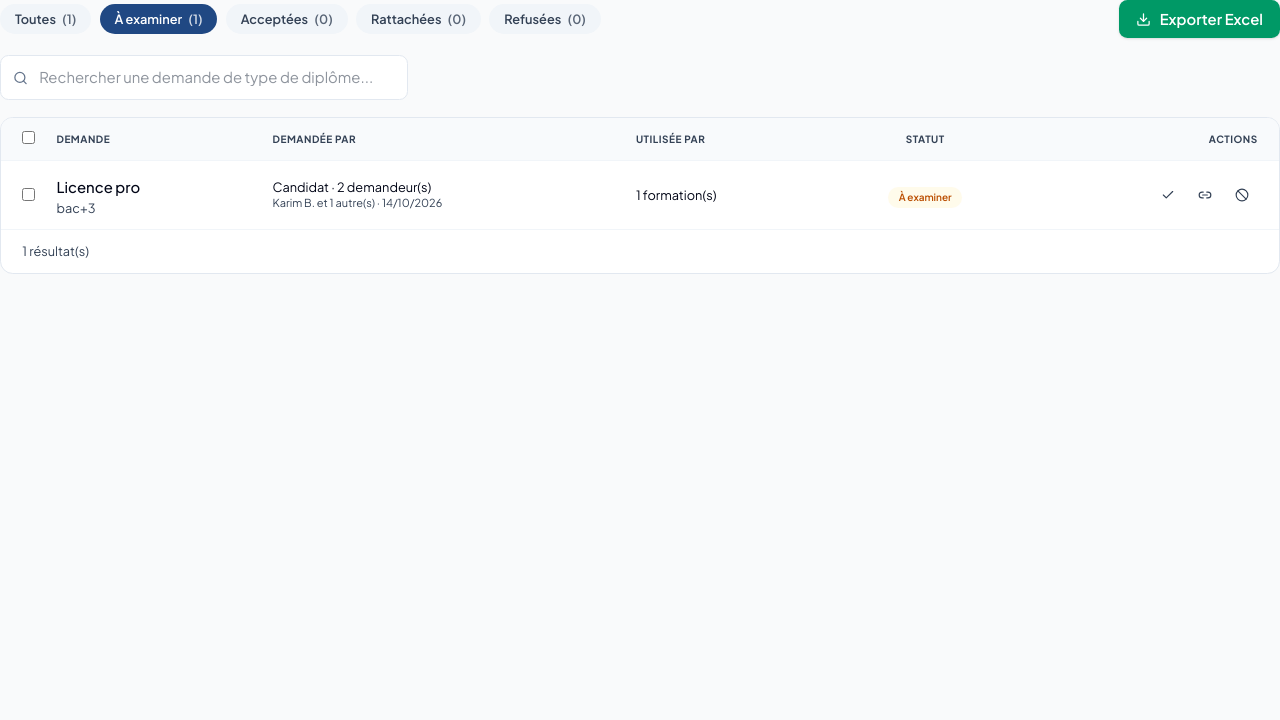
Test: 📥 <DemandesAjoutPanel /> — onglet Demandes du référentiel › 🟢 Refuser : le motif est obligatoire, un motif rapide le remplit, la liste est rechargée
Expected: the button "Licence pro" is shown, x1=56 y1=177 x2=140 y2=198
Click the button named "Refuser Licence pro": (1242, 195) x1=1227 y1=180 x2=1258 y2=211
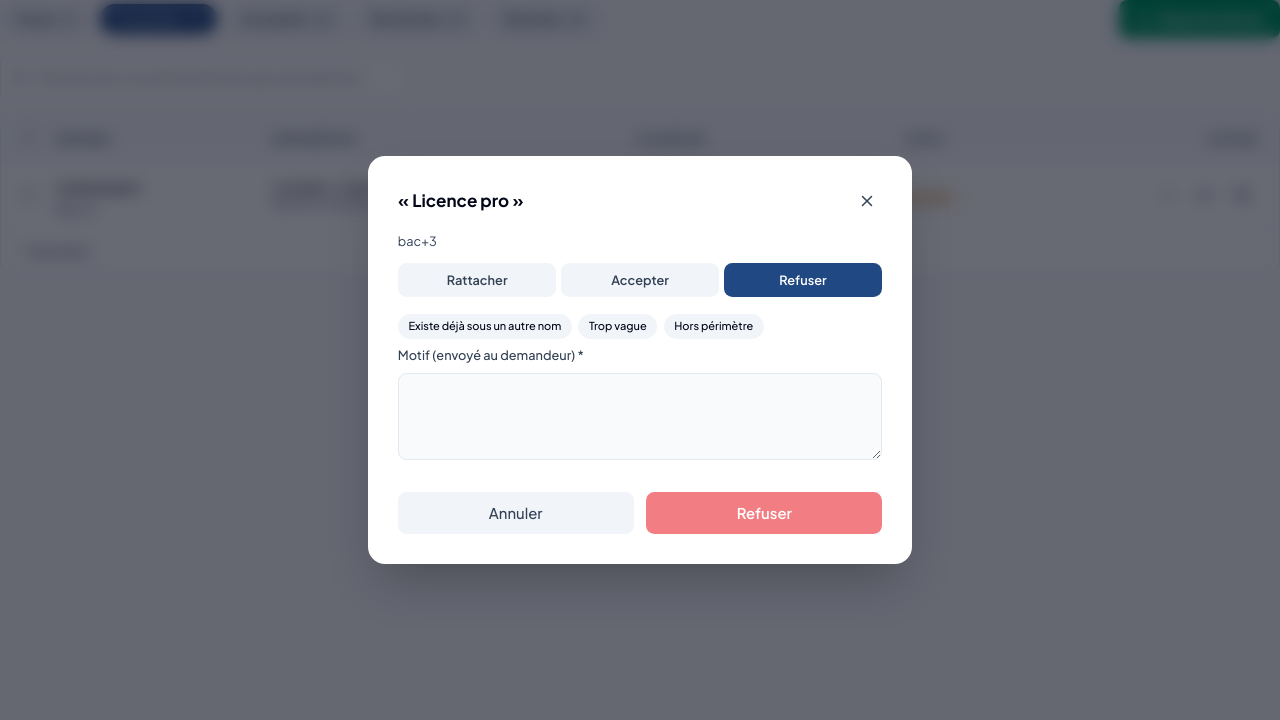
Result: the button "Refuser" is disabled at x1=646 y1=492 x2=882 y2=534
Click the button "Trop vague": (618, 326) x1=578 y1=314 x2=657 y2=339
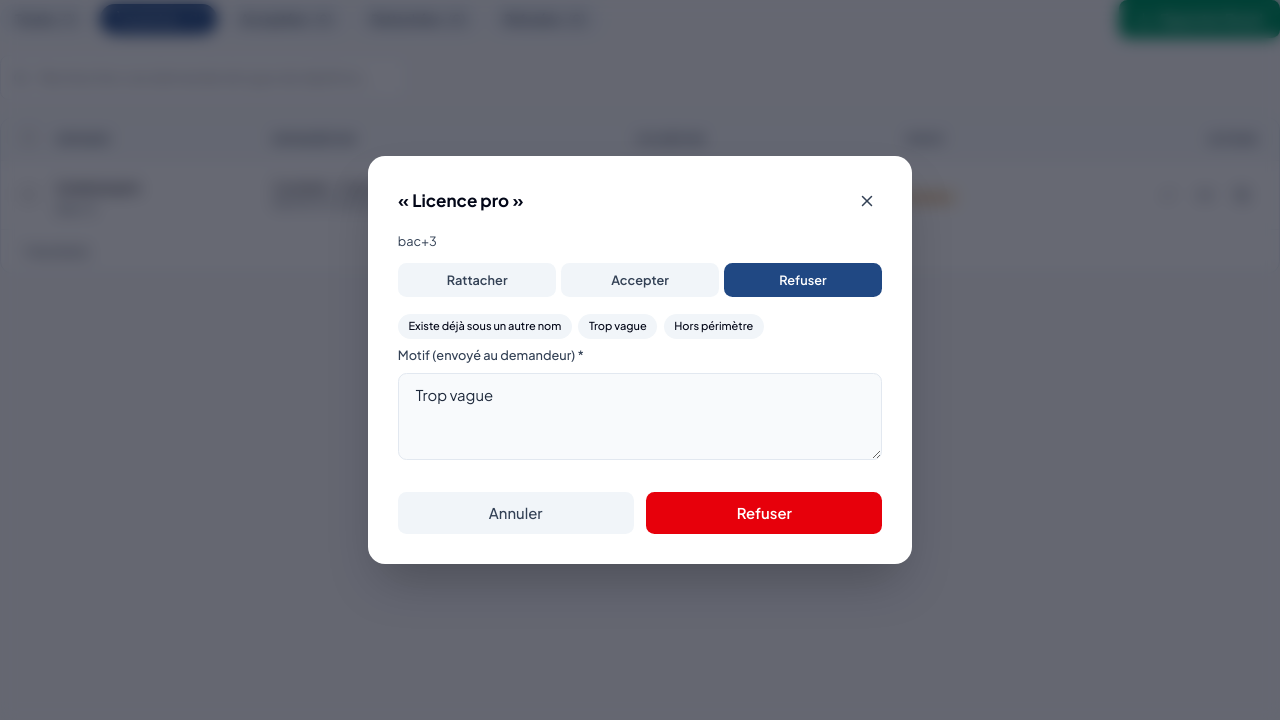
Result: the text box labelled "Motif (envoyé au demandeur) *" holds "Trop vague" at x1=398 y1=373 x2=882 y2=460
Result: the button "Refuser" is enabled
Click the button "Refuser": (764, 513) x1=646 y1=492 x2=882 y2=534
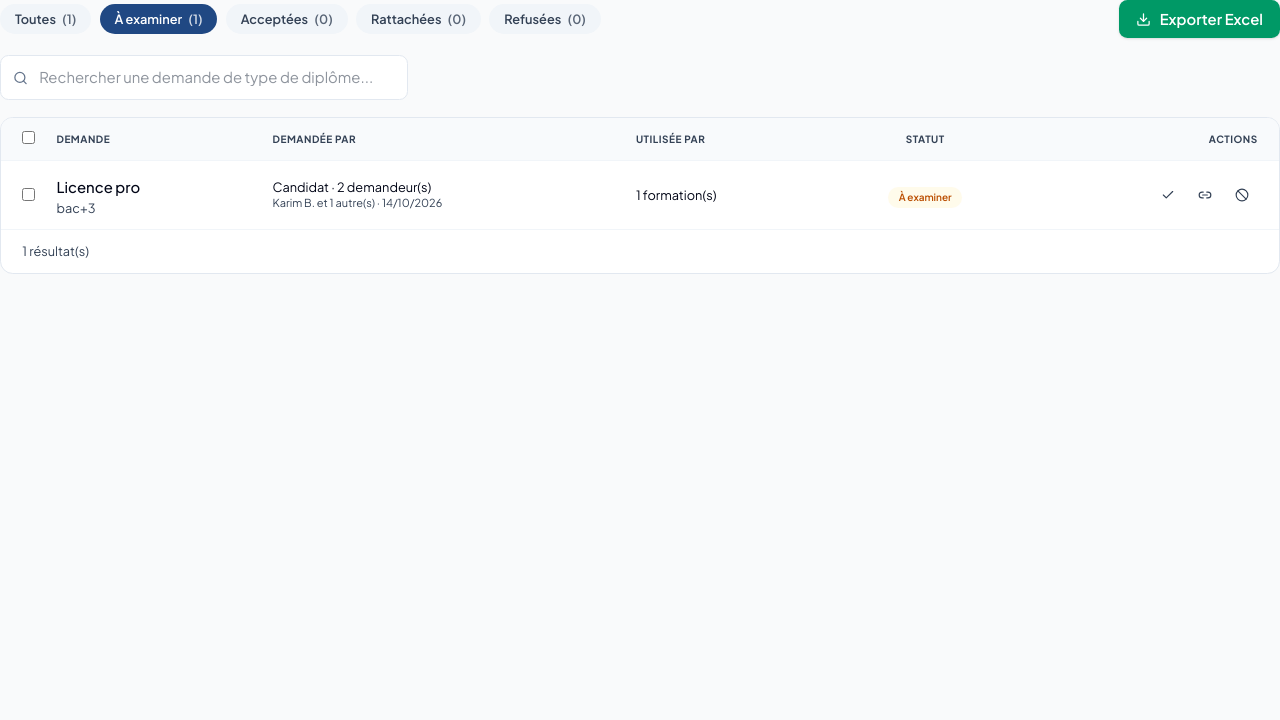
Result: the dialog is gone
